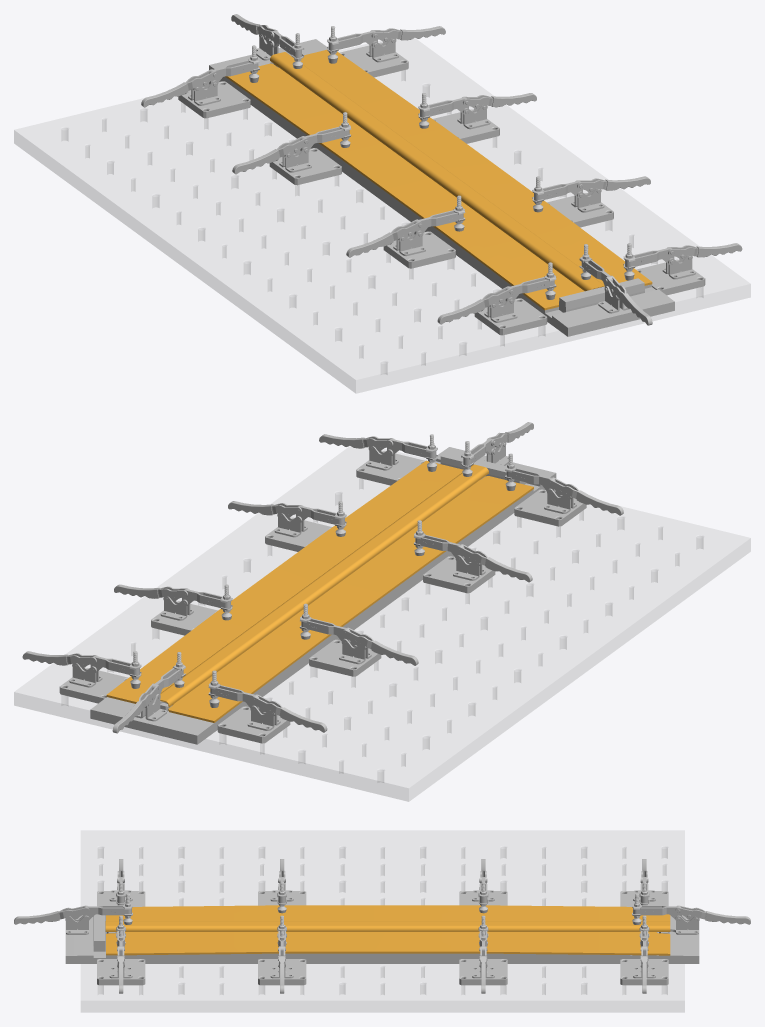
The model's file is equipment_1.glb.
3 views of the same model, one above another, from view 1: azimuth 30°, elevation 25°; view 2: azimuth 150°, elevation 25°; view 3: azimuth 270°, elevation 25° (orthographic). The views are drawn at different scales.
Parts seen in each view (by area): view 1: Mesh_2, Mesh_1, Mesh_51, Mesh_3, Mesh_169, Mesh_153, Mesh_121, Mesh_137, Mesh_73, Mesh_54, Mesh_89, Mesh_105 (+9 smaller); view 2: Mesh_2, Mesh_1, Mesh_51, Mesh_3, Mesh_169, Mesh_153, Mesh_121, Mesh_137, Mesh_89, Mesh_73, Mesh_57, Mesh_105 (+9 smaller); view 3: Mesh_2, Mesh_1, Mesh_3, Mesh_51, Mesh_57, Mesh_89, Mesh_105, Mesh_73, Mesh_49, Mesh_18, Mesh_54, Mesh_153 (+7 smaller).
Part boxes in pixels (x1,y1,x2,y2): Mesh_2: (14, 38, 750, 393); Mesh_1: (225, 49, 652, 310); Mesh_51: (270, 52, 604, 291); Mesh_3: (209, 39, 674, 336); Mesh_169: (269, 148, 341, 185); Mesh_153: (383, 231, 455, 268); Mesh_121: (178, 81, 250, 118); Mesh_137: (474, 298, 547, 335); Mesh_73: (636, 259, 705, 295); Mesh_54: (559, 278, 644, 312); Mesh_89: (339, 42, 408, 77); Mesh_105: (547, 193, 613, 227); Mesh_2: (14, 446, 750, 801); Mesh_1: (106, 460, 533, 722); Mesh_51: (160, 464, 488, 707); Mesh_3: (90, 447, 556, 744); Mesh_169: (309, 639, 381, 676); Mesh_153: (423, 556, 495, 593); Mesh_121: (217, 706, 290, 743); Mesh_137: (514, 489, 586, 526); Mesh_89: (59, 668, 128, 703); Mesh_73: (356, 451, 425, 485); Mesh_57: (151, 601, 217, 635); Mesh_105: (265, 517, 331, 551); Mesh_2: (81, 830, 684, 1012); Mesh_1: (106, 905, 670, 955); Mesh_3: (65, 915, 699, 963); Mesh_51: (105, 921, 670, 931); Mesh_57: (459, 959, 507, 985); Mesh_89: (620, 959, 668, 985); Mesh_105: (258, 959, 306, 985); Mesh_73: (97, 959, 145, 985); Mesh_49: (14, 905, 89, 924); Mesh_18: (675, 905, 750, 924); Mesh_54: (93, 914, 105, 951); Mesh_153: (258, 891, 306, 905).
Size of the model in its own units: 1.03 by 0.1617 by 1.83.
